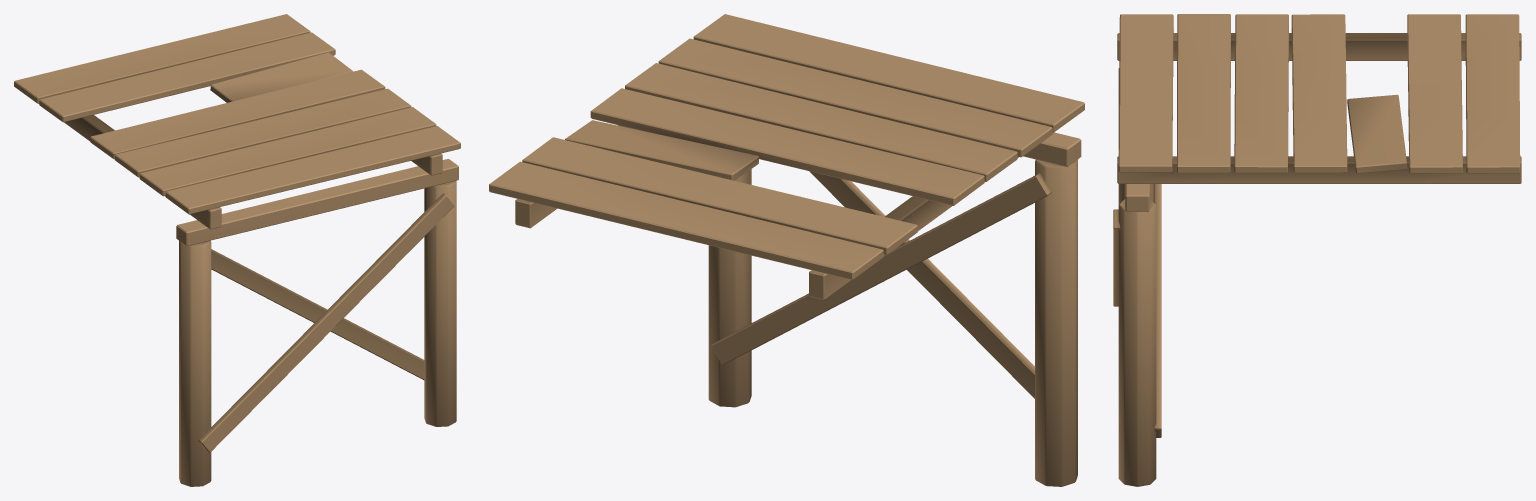
Rendered from jetty_deck_b.glb.
3 views of the same model, side by side, from view 1: azimuth 30°, elevation 25°; view 2: azimuth 150°, elevation 25°; view 3: azimuth 270°, elevation 25° (orthographic). The views are drawn at different scales.
Visible parts, largest first — view 1: PART; view 2: PART; view 3: PART.
Part boxes in pixels (x1,y1,x2,y2): PART: (14,14,460,486); PART: (489,14,1084,486); PART: (1113,14,1521,486).
Bounding box in the file's own units: 1.79 × 1.75 × 2.02.
